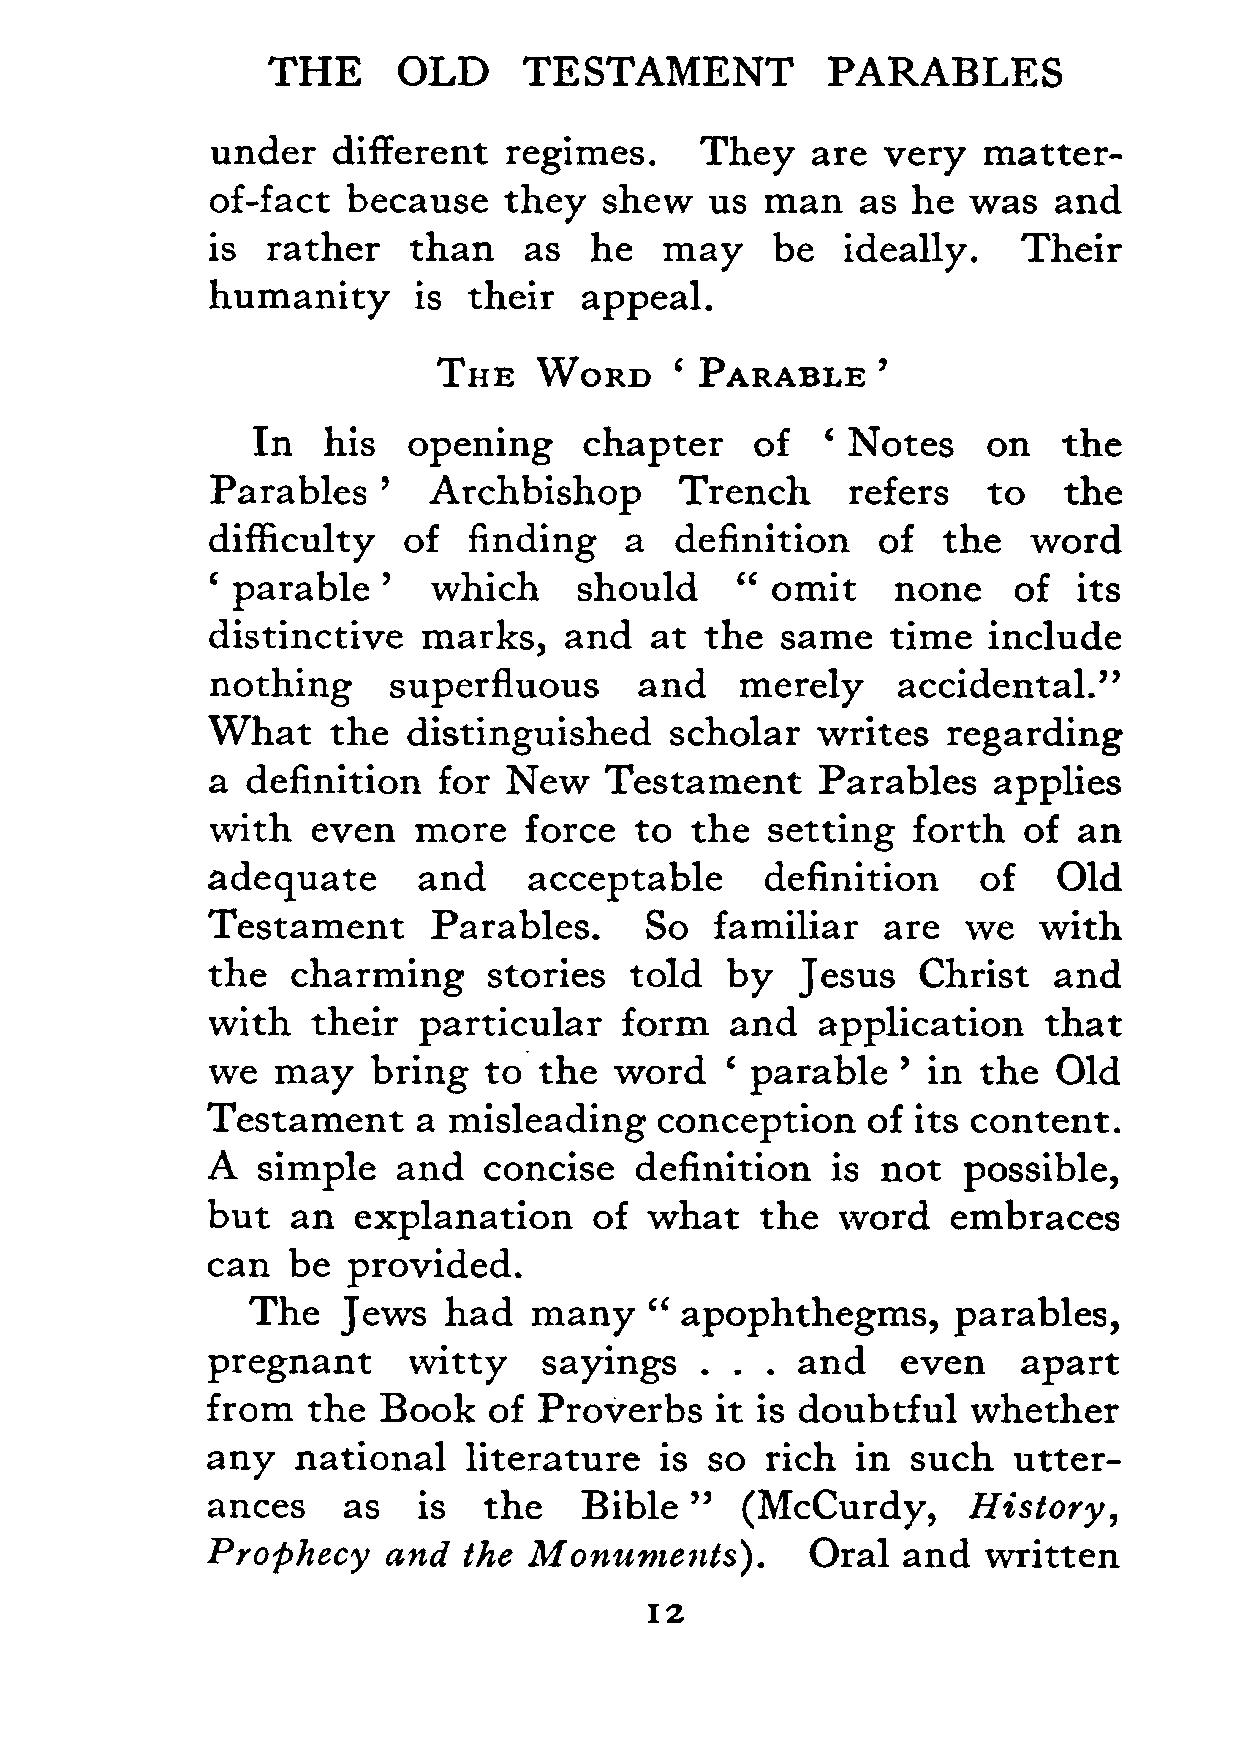chapter: (262, 38, 1063, 95), (431, 345, 890, 397)
content: (200, 413, 1131, 1580), (200, 129, 1122, 323), (660, 119, 678, 136)
content_pagenumber: (635, 1596, 687, 1636)
